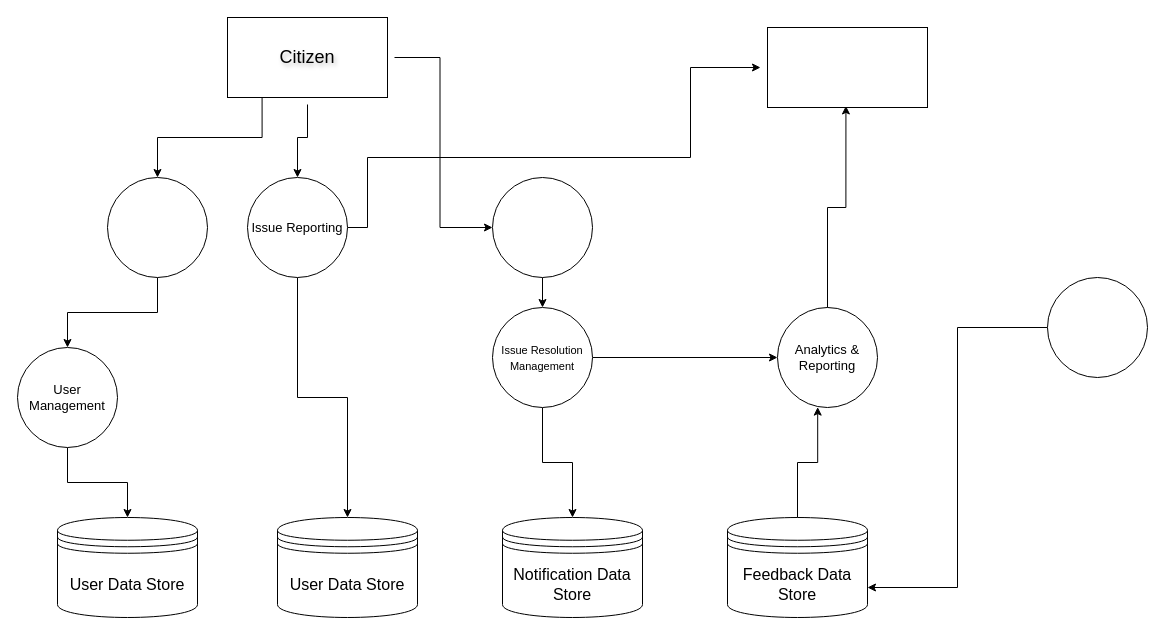
Some shapes in this 1165 by 635 pixel diagram are drawn without their labels. The centre of each missing label's shape, as x and y in pixels:
"Authentication and Authorization" belongs at (157,227).
"Feedback And Rating" belongs at (1097,327).
"Municipal Corporation" belongs at (847,67).
"Notifaction System" belongs at (542,227).
